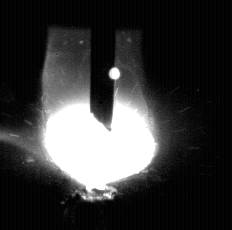arame: (91, 0, 115, 132)
poca: (43, 0, 156, 230)
